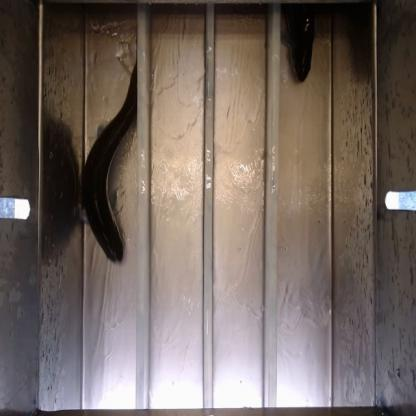pezw: (83, 65, 138, 267), (282, 1, 321, 85)
